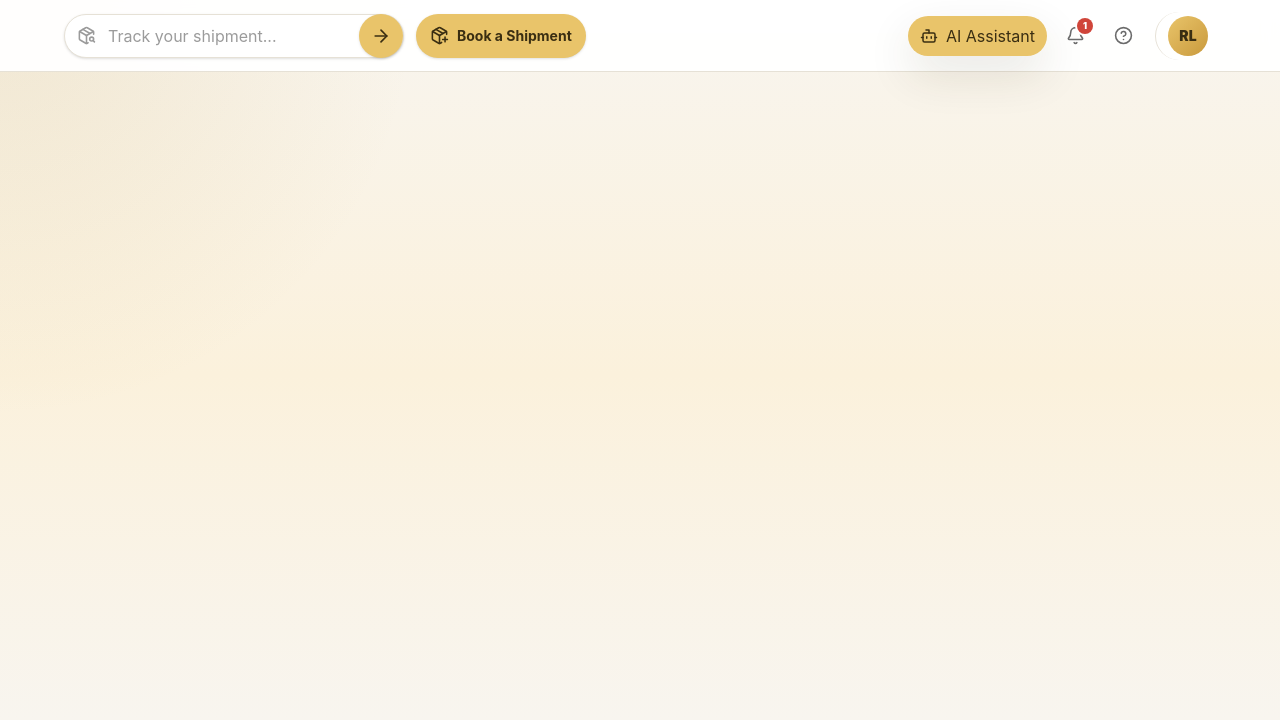
Test case: customer dashboard navigation and profile › tracks from the customer header and opens announcements
The width and height of the screenshot is (1280, 720).
Type " ln-2002 " into the search field named "Tracking ID".
click(228, 36); type(" ln-2002 ")  # box [96,14,359,56]
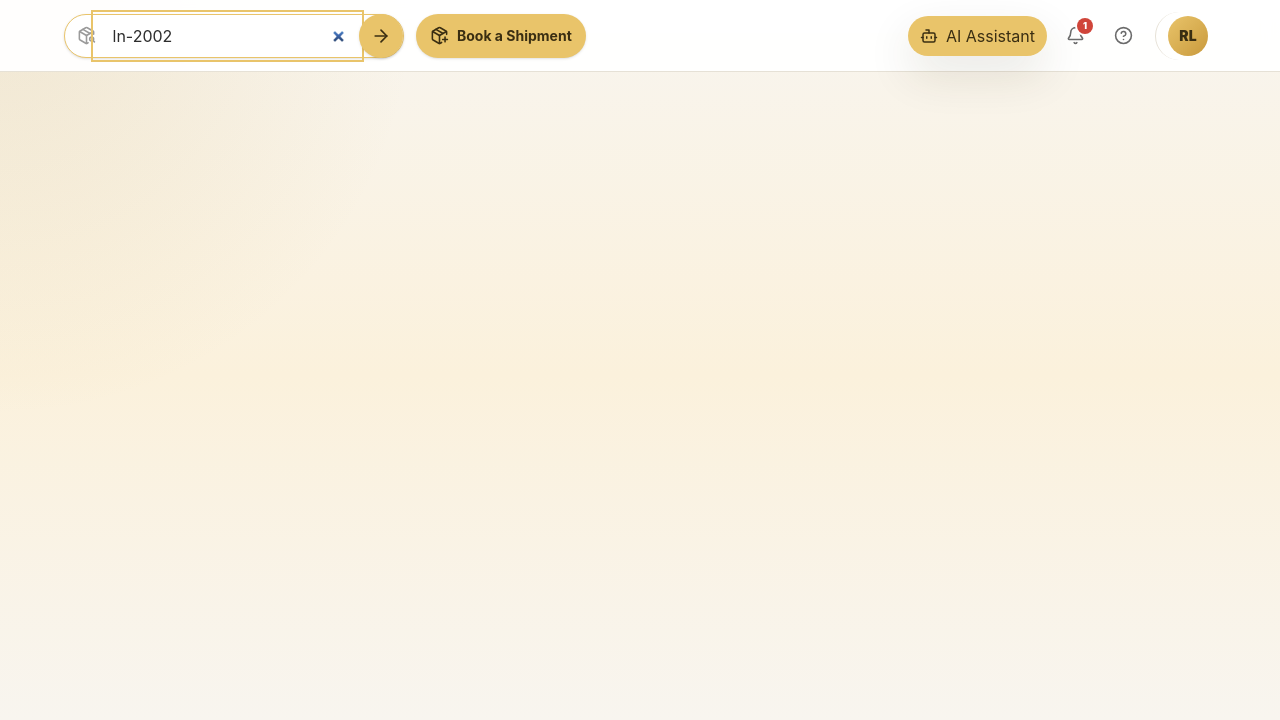
Click the button named "Track shipment".
click(381, 36)  # box [359,14,403,58]
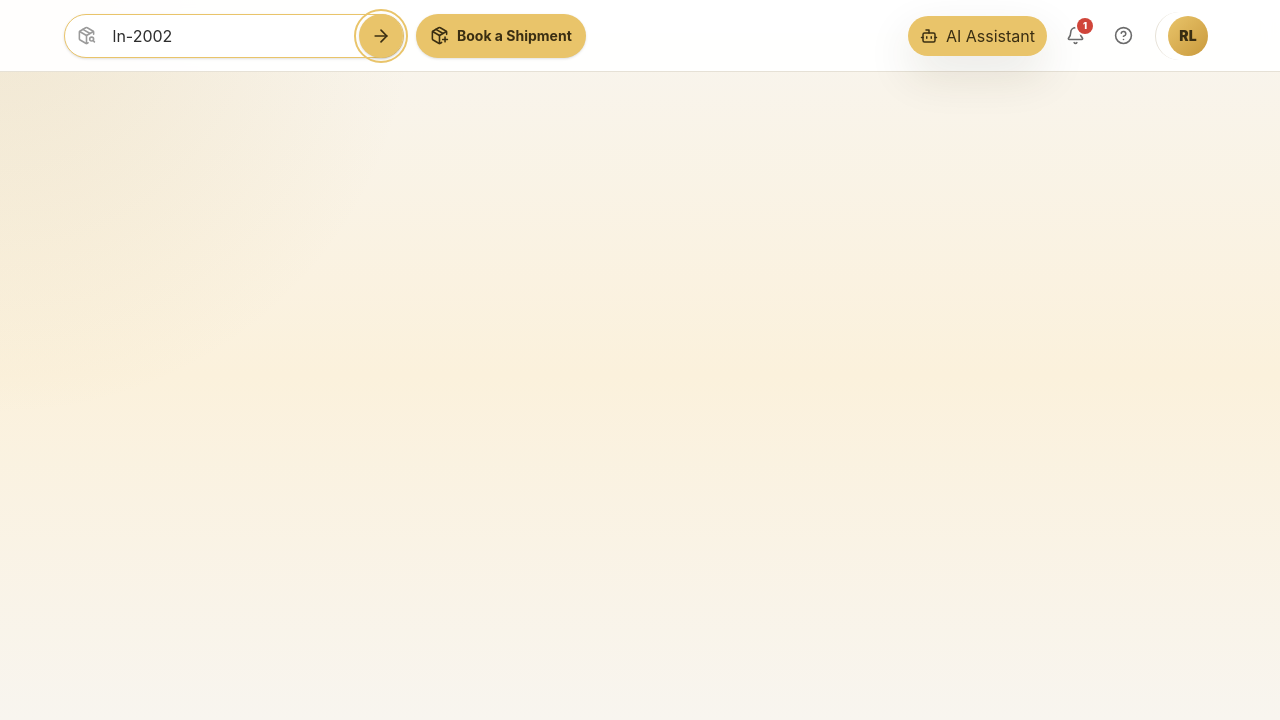
Click the button named "1 announcement notifications".
click(1075, 36)  # box [1055,16,1095,56]
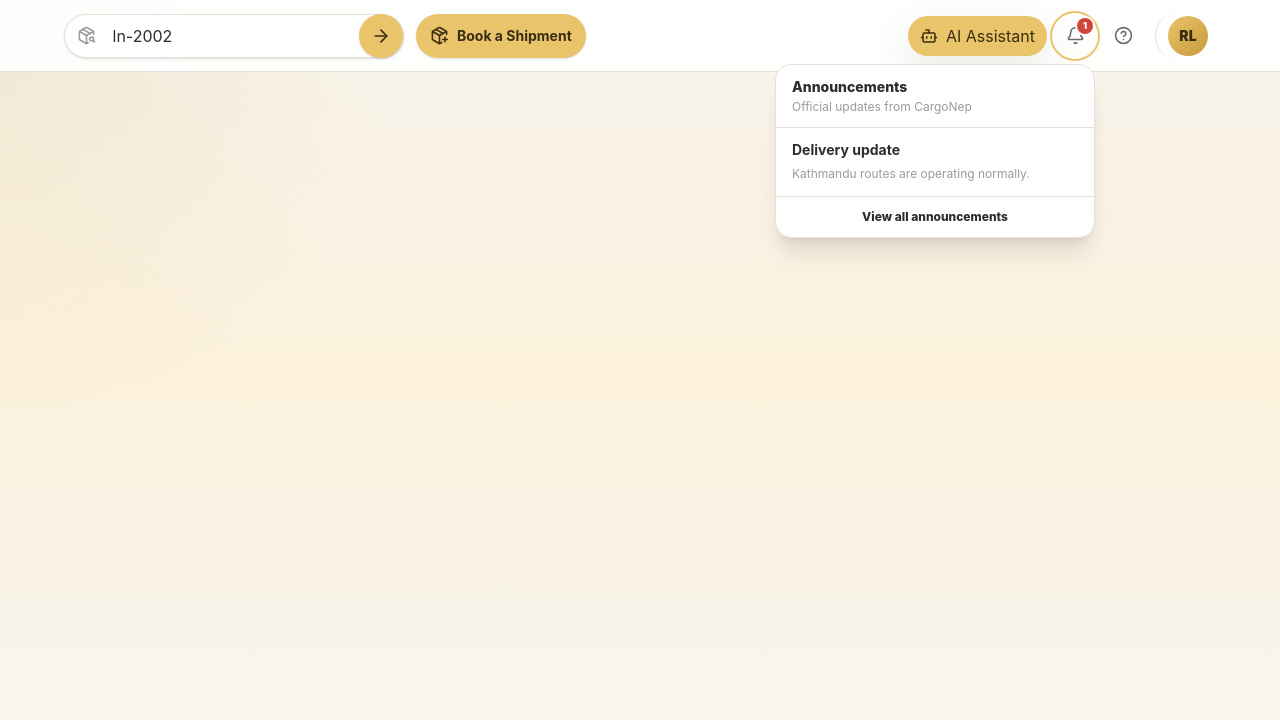
Check: the dialog named "Announcement notifications" shows "Delivery update", box [776,128,1094,196]
